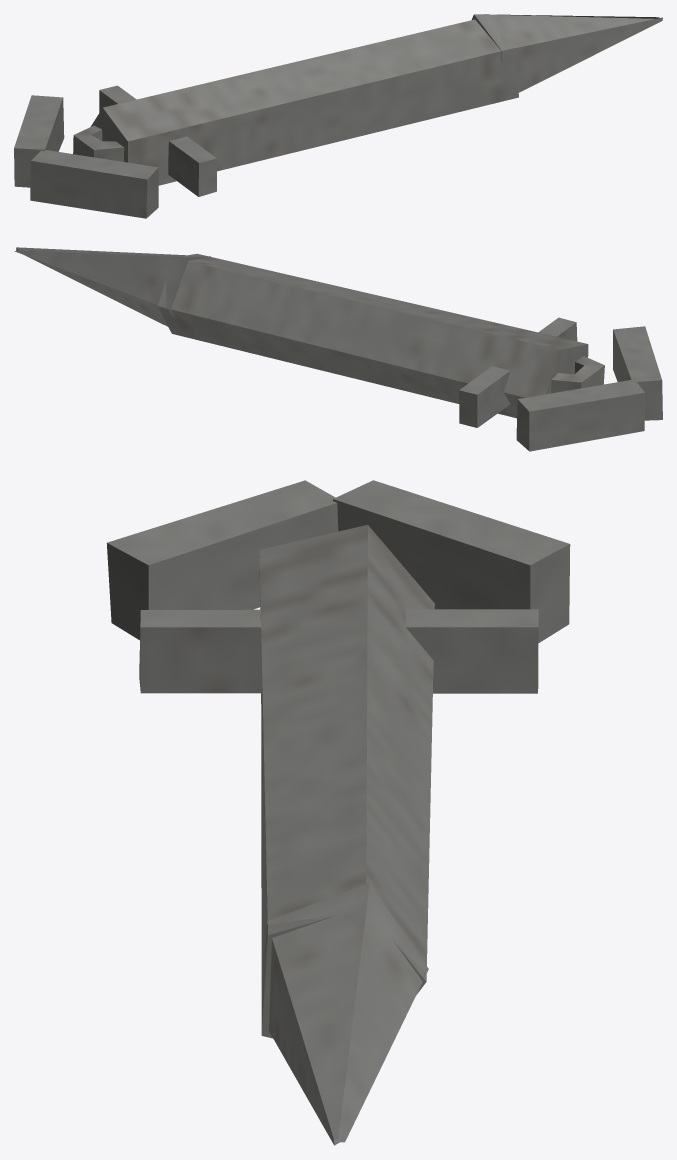
The model's file is needle_anchor.glb.
3 views of the same model, one above another, from view 1: azimuth 30°, elevation 25°; view 2: azimuth 150°, elevation 25°; view 3: azimuth 270°, elevation 25° (orthographic). The views are drawn at different scales.
Visible parts, largest first — view 1: NeedleAnchor; view 2: NeedleAnchor; view 3: NeedleAnchor.
Boxes of the visible parts, x1,y1,x2,y2 form: NeedleAnchor: (14, 14, 662, 218); NeedleAnchor: (14, 247, 662, 451); NeedleAnchor: (107, 480, 570, 1145).
Size of the model in its own units: 0.3313 by 0.0402 by 0.104.
Materials: 1 (1 with a texture image).
